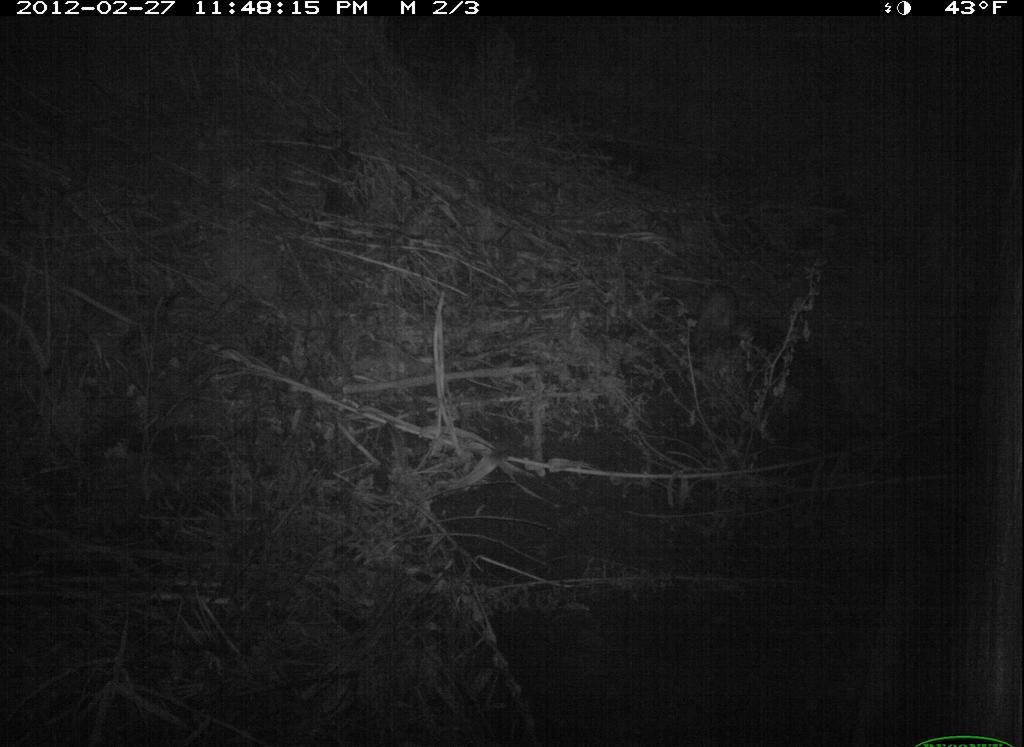opossum: (626, 240, 821, 411)
